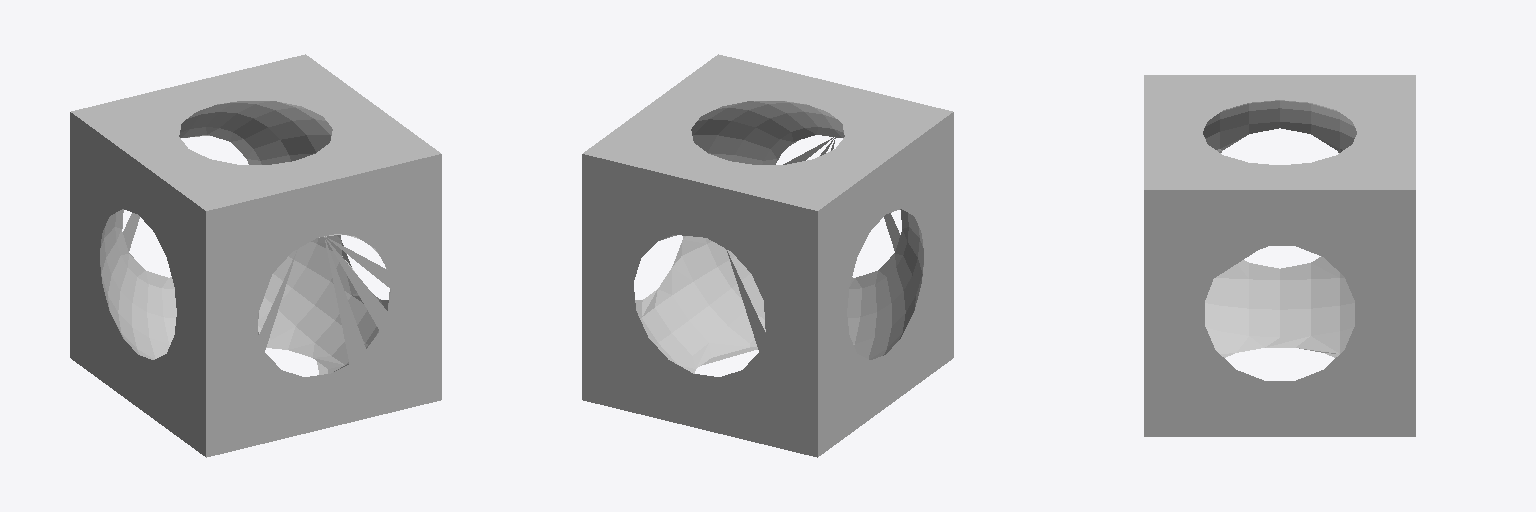
File: sofa.obj
3 renders of one model, left to right at view 1: azimuth 30°, elevation 25°; view 2: azimuth 150°, elevation 25°; view 3: azimuth 270°, elevation 25°, orthographic.
Visible parts, largest first — view 1: Box01; view 2: Box01; view 3: Box01.
Part boxes in pixels (bbox=[...]): Box01: bbox=[70, 54, 441, 457]; Box01: bbox=[582, 54, 953, 457]; Box01: bbox=[1144, 75, 1415, 436].
Size of the model in its own units: 0.5 by 0.5 by 0.5.